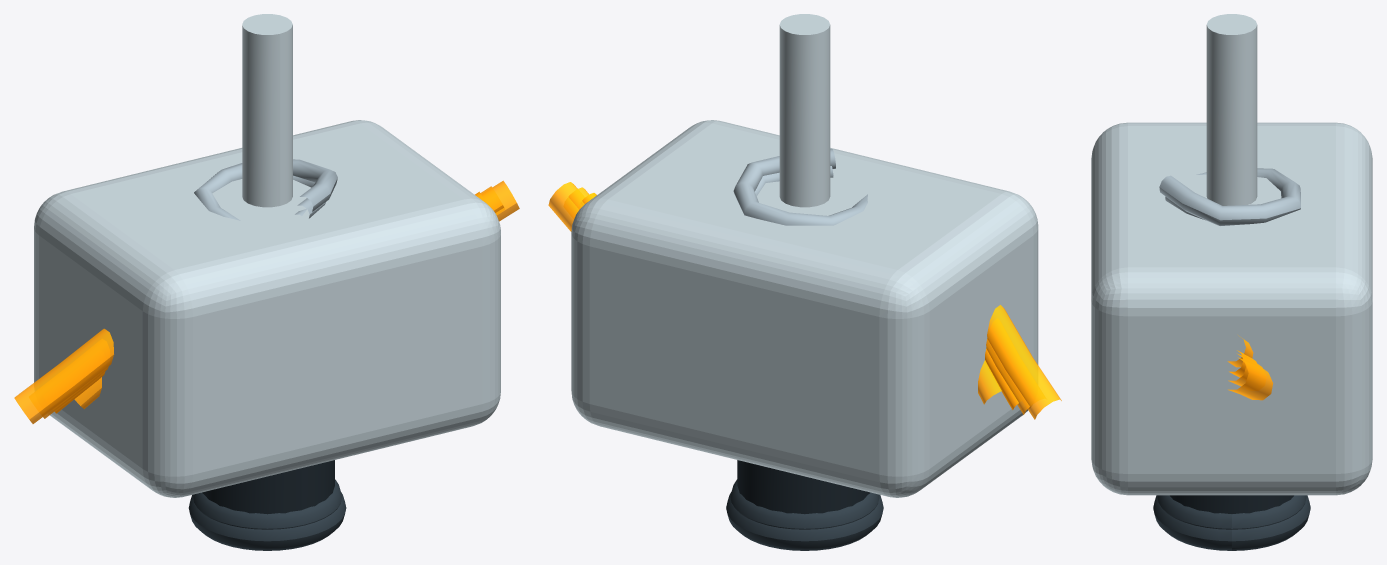
Rendered from remaining_systems_02.glb.
3 views of the same model, side by side, from view 1: azimuth 30°, elevation 25°; view 2: azimuth 150°, elevation 25°; view 3: azimuth 270°, elevation 25° (orthographic).
Visible parts, largest first — view 1: asset_mesh__remaining_systems_0152__reference_body, asset_mesh__remaining_systems_0269__piston_rod, asset_mesh__remaining_systems_0269__damper_body, asset_mesh__remaining_systems_0251__fluid_path, asset_mesh__remaining_systems_0269__lower_eye, asset_mesh__remaining_systems_0268__lower_eye, asset_mesh__remaining_systems_0173__coil_spring; view 2: asset_mesh__remaining_systems_0152__reference_body, asset_mesh__remaining_systems_0269__piston_rod, asset_mesh__remaining_systems_0269__damper_body, asset_mesh__remaining_systems_0251__fluid_path, asset_mesh__remaining_systems_0269__lower_eye, asset_mesh__remaining_systems_0173__coil_spring, asset_mesh__remaining_systems_0268__lower_eye, asset_mesh__remaining_systems_0169__fluid_path; view 3: asset_mesh__remaining_systems_0152__reference_body, asset_mesh__remaining_systems_0269__piston_rod, asset_mesh__remaining_systems_0173__coil_spring, asset_mesh__remaining_systems_0269__lower_eye, asset_mesh__remaining_systems_0268__lower_eye, asset_mesh__remaining_systems_0269__damper_body, asset_mesh__remaining_systems_0251__fluid_path.
Part boxes in pixels (x1,y1,x2,y2): asset_mesh__remaining_systems_0152__reference_body: [34, 120, 500, 497]; asset_mesh__remaining_systems_0269__piston_rod: [242, 14, 292, 207]; asset_mesh__remaining_systems_0269__damper_body: [202, 460, 334, 514]; asset_mesh__remaining_systems_0251__fluid_path: [14, 180, 519, 423]; asset_mesh__remaining_systems_0269__lower_eye: [188, 492, 346, 550]; asset_mesh__remaining_systems_0268__lower_eye: [193, 479, 341, 529]; asset_mesh__remaining_systems_0173__coil_spring: [194, 159, 337, 220]; asset_mesh__remaining_systems_0152__reference_body: [571, 120, 1038, 497]; asset_mesh__remaining_systems_0269__piston_rod: [779, 14, 830, 207]; asset_mesh__remaining_systems_0269__damper_body: [737, 460, 870, 514]; asset_mesh__remaining_systems_0251__fluid_path: [548, 182, 1061, 419]; asset_mesh__remaining_systems_0269__lower_eye: [726, 492, 883, 550]; asset_mesh__remaining_systems_0173__coil_spring: [733, 149, 867, 225]; asset_mesh__remaining_systems_0268__lower_eye: [730, 479, 879, 529]; asset_mesh__remaining_systems_0169__fluid_path: [568, 187, 1029, 414]; asset_mesh__remaining_systems_0152__reference_body: [1091, 122, 1372, 495]; asset_mesh__remaining_systems_0269__piston_rod: [1206, 14, 1257, 205]; asset_mesh__remaining_systems_0173__coil_spring: [1159, 168, 1300, 225]; asset_mesh__remaining_systems_0269__lower_eye: [1153, 495, 1310, 550]; asset_mesh__remaining_systems_0268__lower_eye: [1157, 495, 1306, 529]; asset_mesh__remaining_systems_0269__damper_body: [1170, 495, 1293, 513]; asset_mesh__remaining_systems_0251__fluid_path: [1228, 357, 1273, 400].
Bounding box in the file's own units: 1.73 × 1.64 × 0.84.
